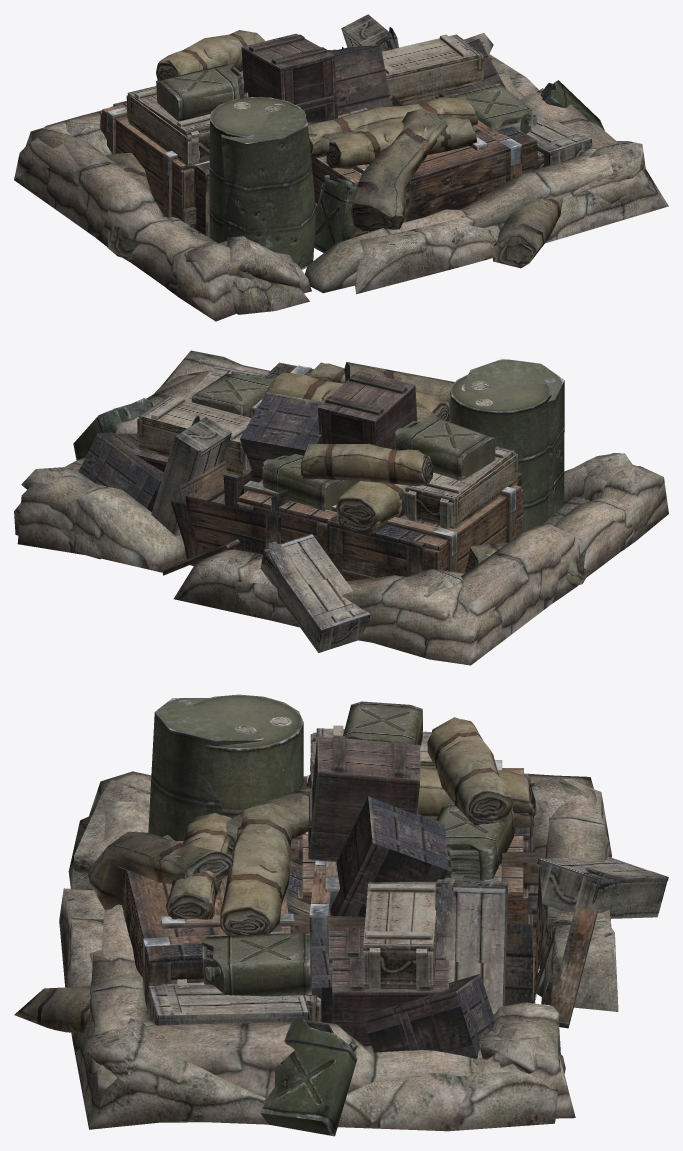
File: ammo_crate.glb
3 views of the same model, one above another, from view 1: azimuth 30°, elevation 25°; view 2: azimuth 150°, elevation 25°; view 3: azimuth 270°, elevation 25° (orthographic). The views are drawn at different scales.
Visible parts, largest first — view 1: Loadout, Destroyed_Loadout; view 2: Loadout, Destroyed_Loadout; view 3: Destroyed_Loadout, Loadout.
Part boxes in pixels (box(x1,y1,x2,y2)): Loadout: box(14, 30, 649, 321); Destroyed_Loadout: box(65, 14, 668, 314); Loadout: box(17, 362, 668, 665); Destroyed_Loadout: box(14, 350, 632, 652); Destroyed_Loadout: box(14, 698, 668, 1136); Loadout: box(88, 694, 611, 1122).
Size of what is drawn, in the model's own units: 4.52 by 1.42 by 3.96.
1 material, 1 textured.
